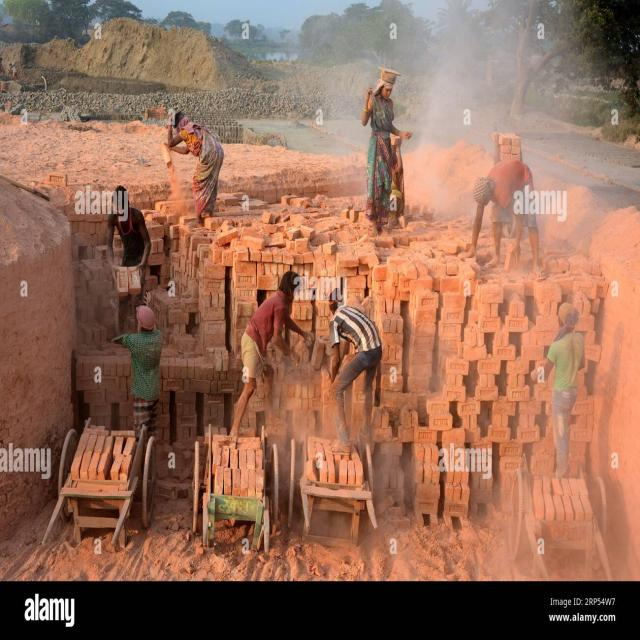no_boots: (355, 422, 378, 452), (325, 434, 353, 457), (530, 257, 550, 285), (265, 414, 286, 427), (370, 220, 380, 239), (388, 217, 399, 228)
no_gloves: (506, 234, 526, 272), (463, 237, 477, 262), (287, 349, 302, 369), (134, 260, 148, 281), (141, 288, 154, 310), (302, 329, 316, 348), (399, 126, 415, 142), (529, 369, 543, 387), (110, 264, 122, 284), (363, 84, 375, 102), (166, 113, 174, 128)
no_hardhat: (277, 262, 304, 308), (105, 183, 132, 225), (133, 299, 157, 337), (553, 299, 580, 332), (321, 283, 349, 314), (374, 66, 402, 96), (473, 172, 495, 210), (164, 106, 184, 130)
no_vest: (236, 278, 294, 366), (326, 304, 384, 367), (544, 328, 586, 414), (121, 329, 167, 405), (106, 206, 152, 265), (488, 161, 537, 209), (179, 121, 226, 168), (364, 94, 402, 145)
person: (224, 270, 318, 442), (347, 65, 427, 241), (318, 283, 387, 457), (461, 157, 550, 286), (528, 299, 586, 480), (120, 286, 172, 449), (104, 184, 154, 347), (163, 105, 225, 228)
